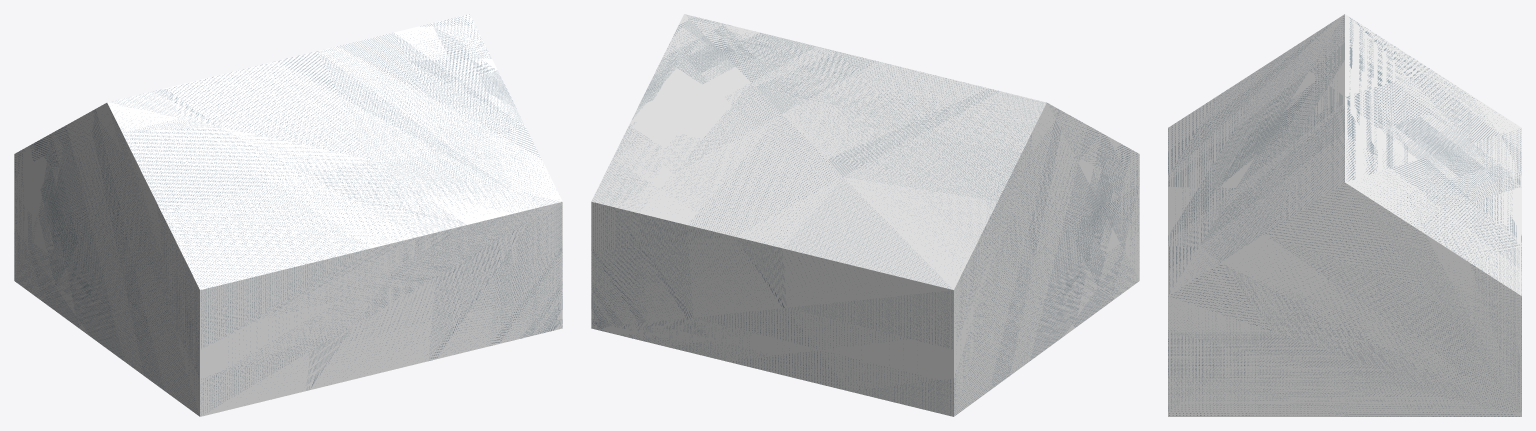
File: stadt_haus_01.dae
The picture shows the model from 3 angles, left to right: view 1: azimuth 30°, elevation 25°; view 2: azimuth 150°, elevation 25°; view 3: azimuth 270°, elevation 25°; orthographic projection. The views are drawn at different scales.
Parts seen in each view (by area): view 1: SketchUp; view 2: SketchUp; view 3: SketchUp.
Boxes of the visible parts, bbox=[...] form: SketchUp: bbox=[14, 14, 562, 416]; SketchUp: bbox=[591, 14, 1139, 416]; SketchUp: bbox=[1168, 14, 1521, 416].
Size of the model in its own units: 355 by 315 by 230.
